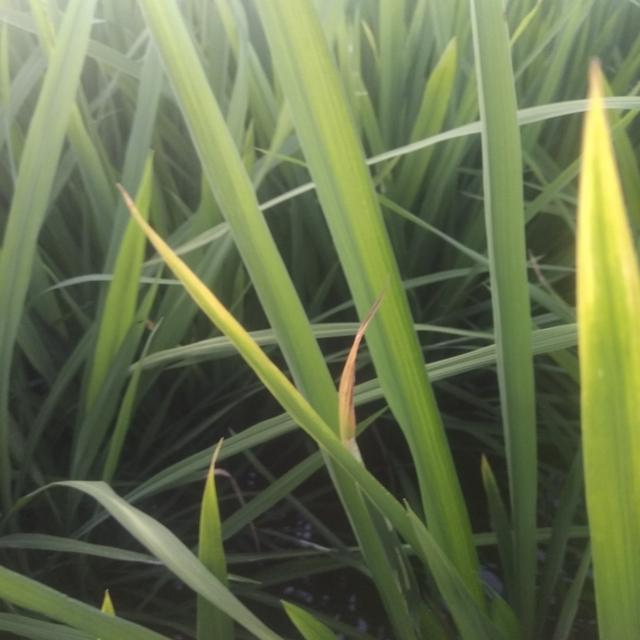Brown spot: (322, 283, 392, 458)
